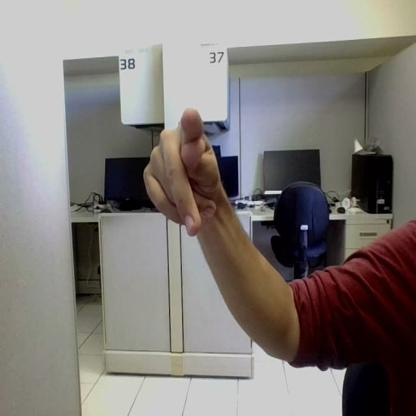P: (144, 109, 220, 237)
